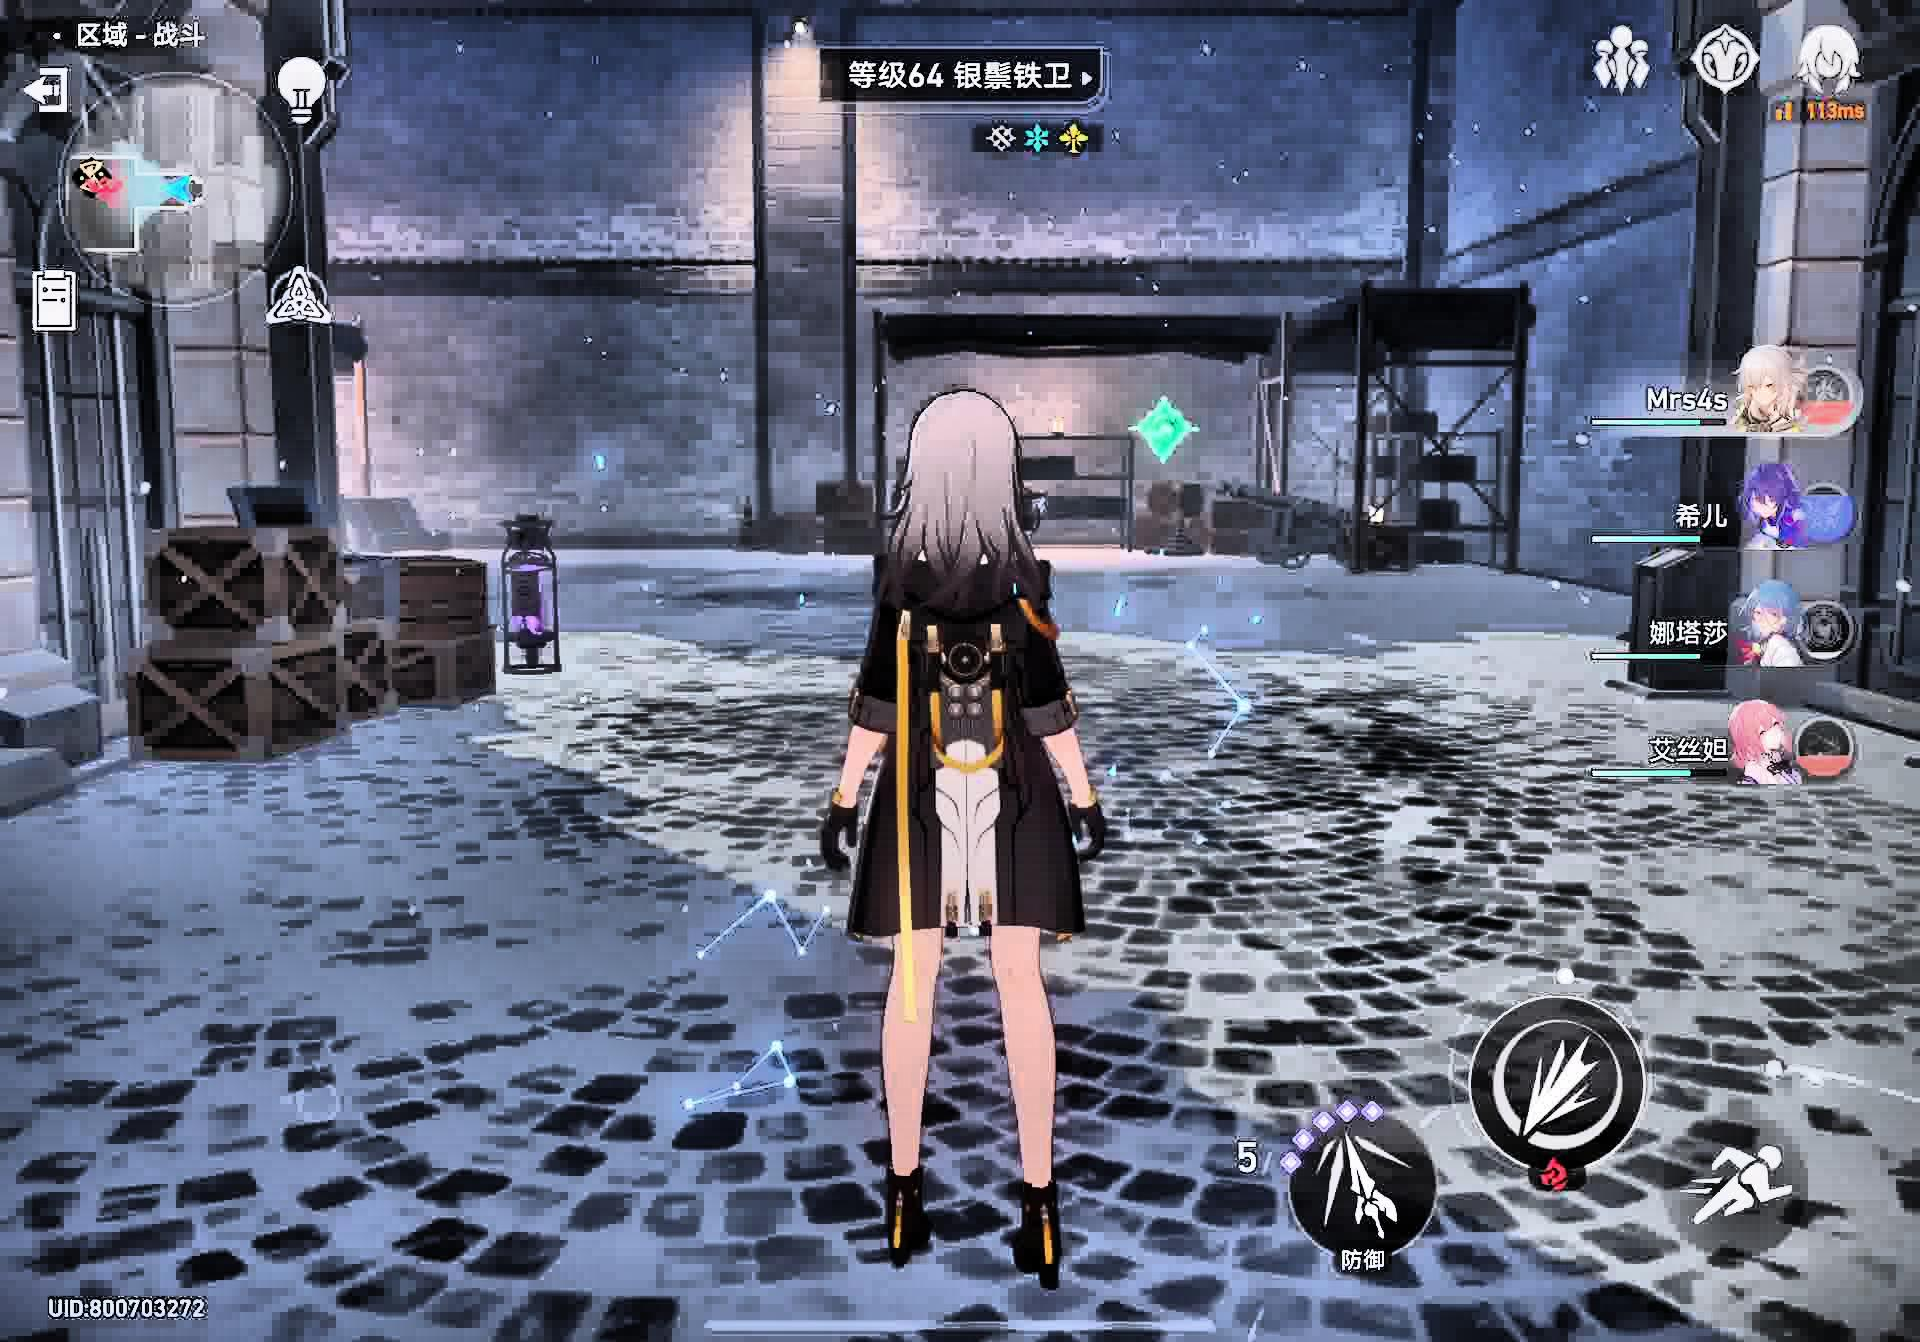SafeDoor: (1128, 400, 1202, 468)
Self: (818, 388, 1087, 1297)
